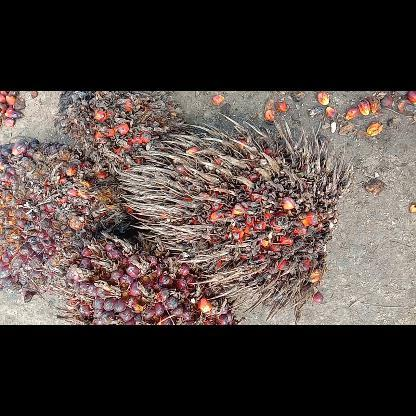TBS masak: (0, 139, 132, 301), (49, 232, 237, 324)
Terlalu masak: (118, 113, 350, 324), (55, 91, 183, 167)
